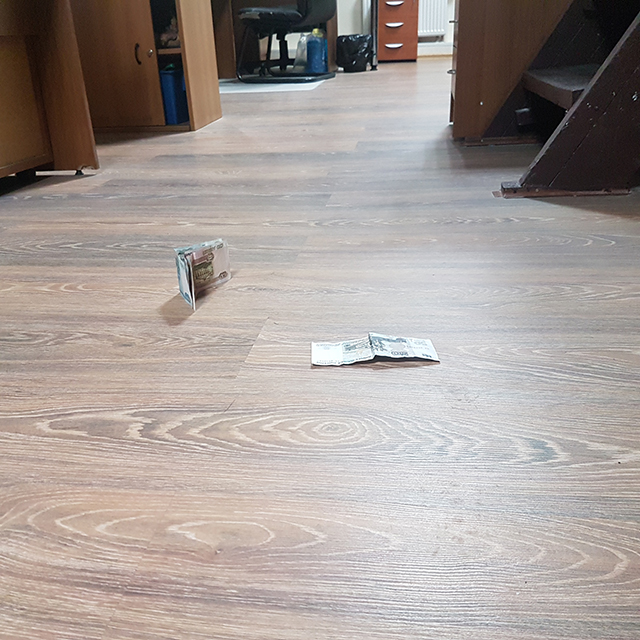banknotes: (311, 331, 442, 369), (174, 238, 231, 310)
